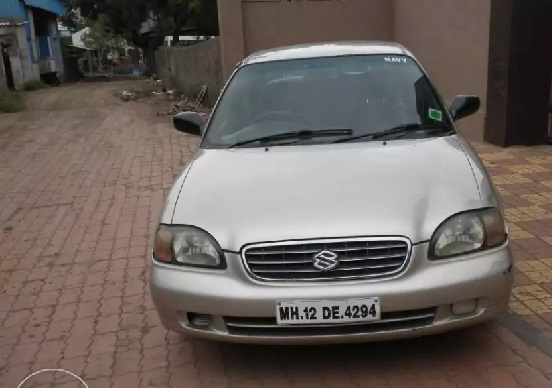licenseplate: (275, 296, 383, 325)
